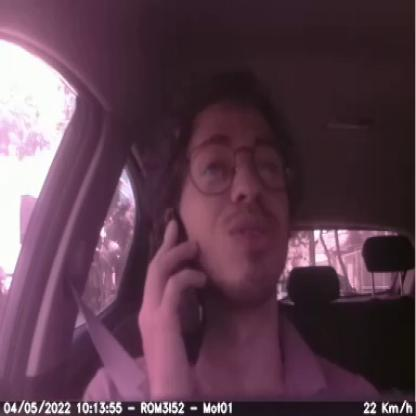phone: (156, 209, 212, 366)
